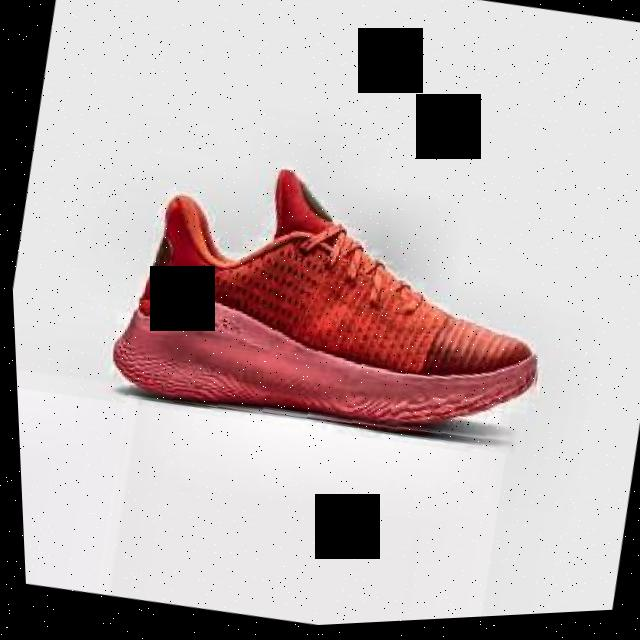shoe: (95, 135, 568, 475)
